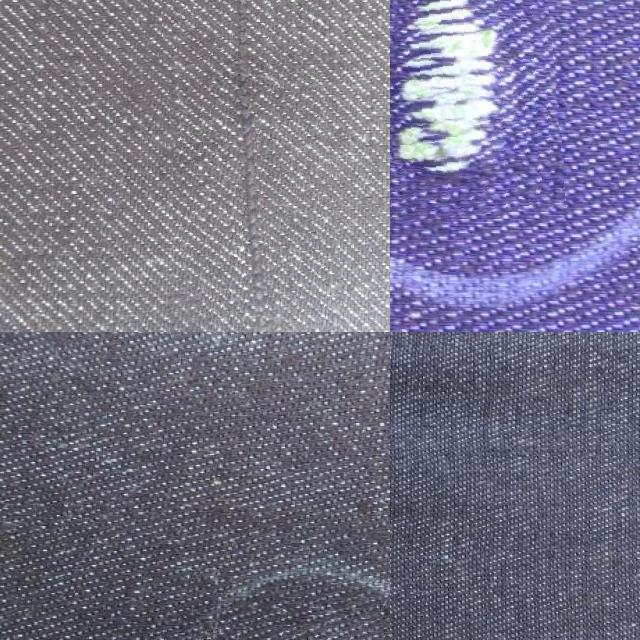Thread_other: (161, 0, 335, 332), (390, 0, 558, 220)
